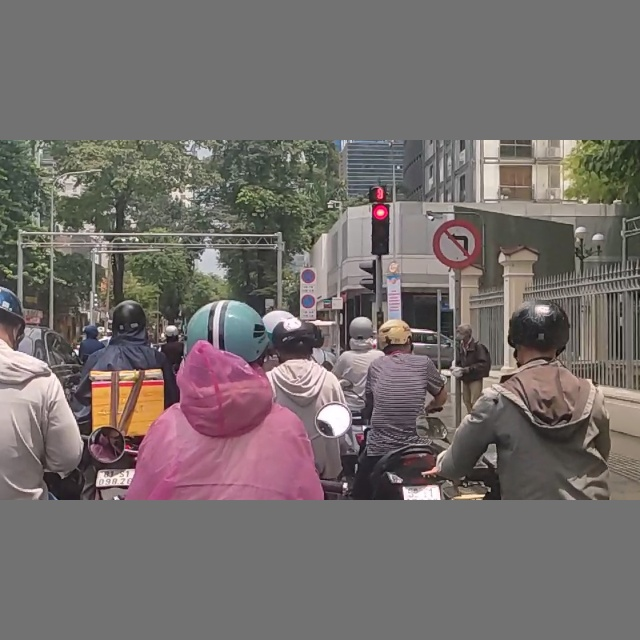P.123a: (432, 217, 481, 269)
P.130: (300, 269, 315, 285)
P.131a: (301, 293, 316, 309)
